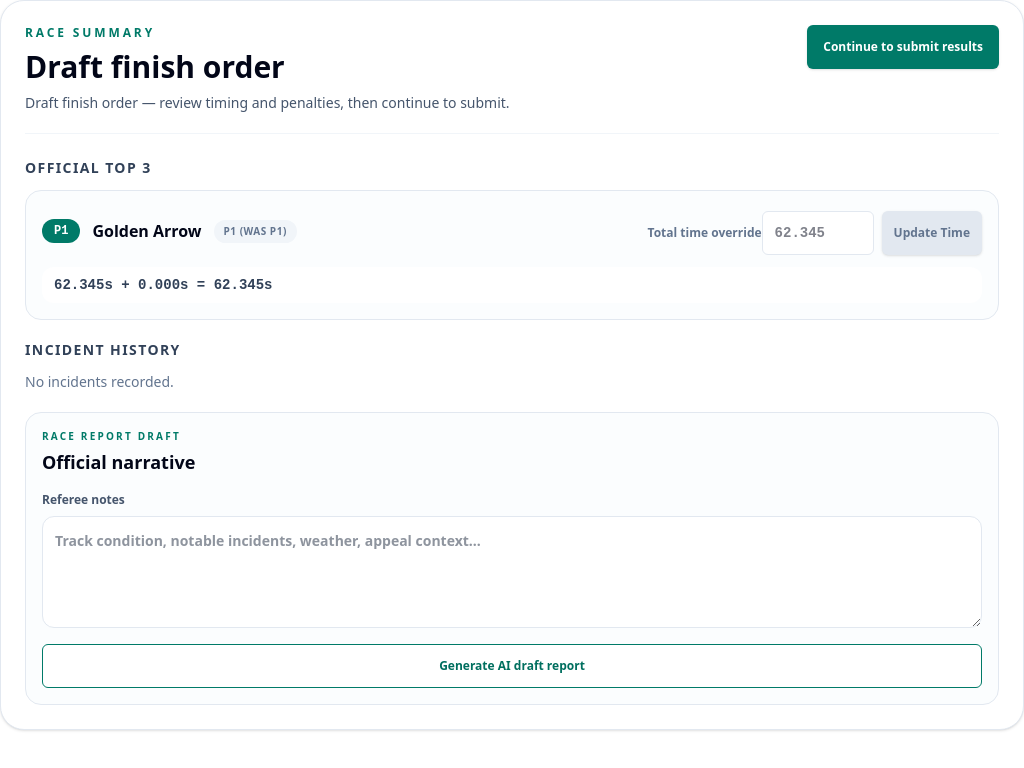
Test: RefereeOfficiatePage › requires Update Time before applying a manual total time override
Type "62.344" into the number field named "Override total time for Golden Arrow" at point(818, 233), box [762,211,874,255]
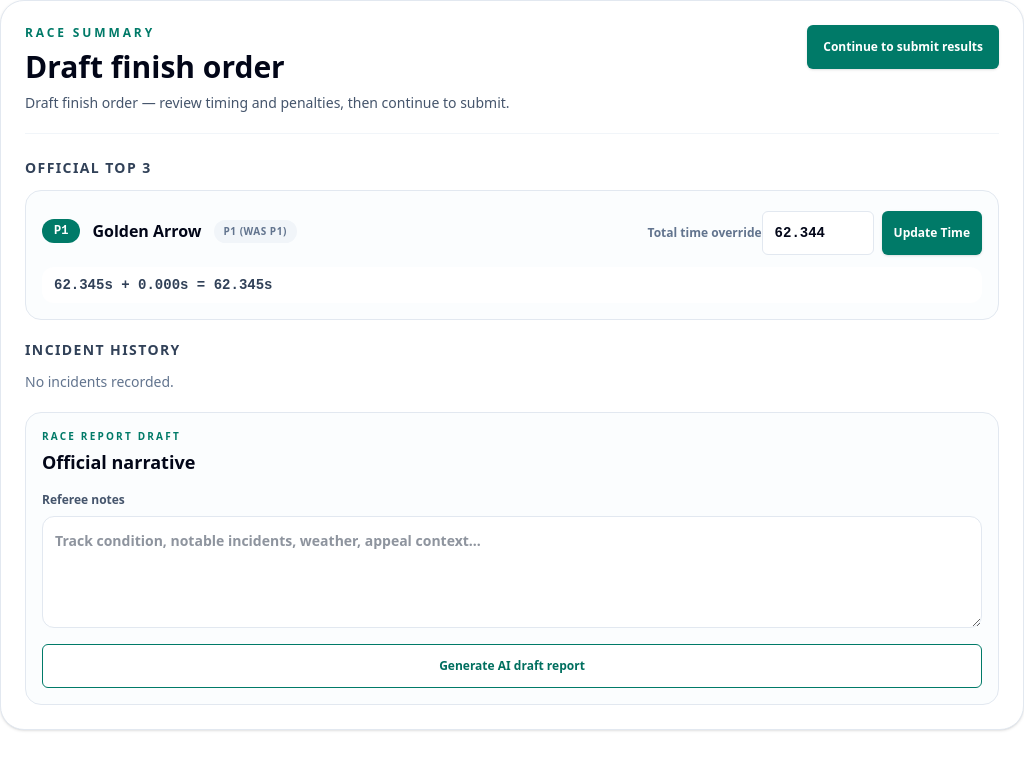
Expected: the text "62.345s + 0.000s = 62.345s" is shown, [42,267,982,303]
Click the button with aria-label "Update time for Golden Arrow" at point(932, 233), box [882,211,982,255]
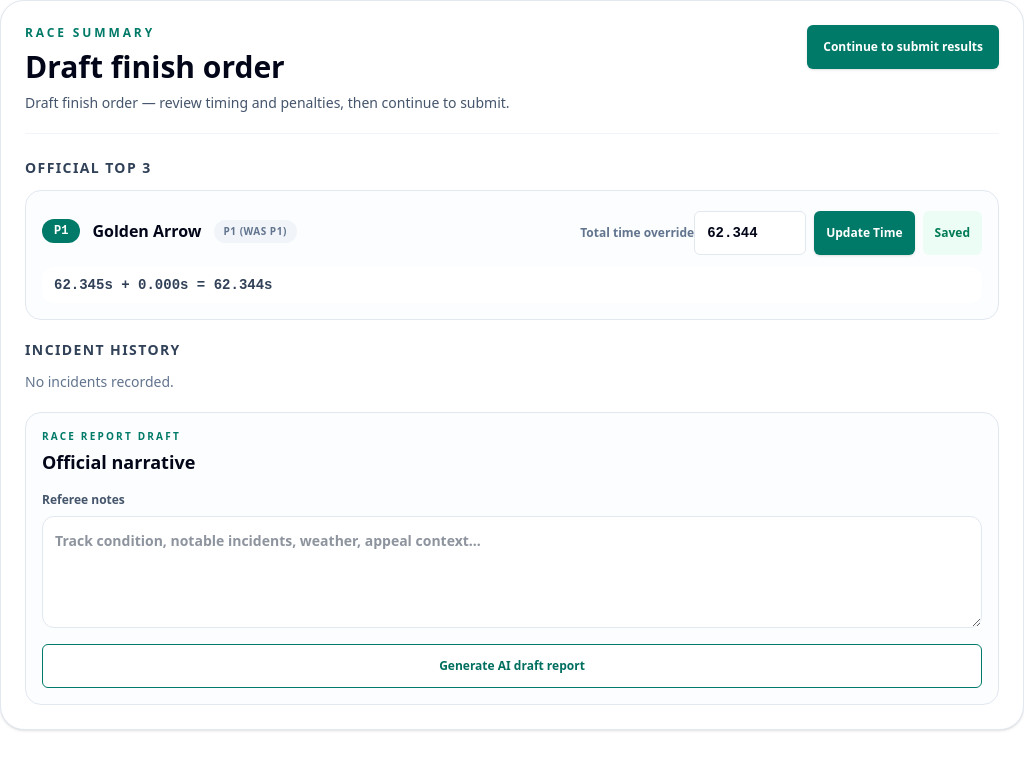
Expected: the text "62.345s + 0.000s = 62.344s" is shown, [42,267,982,303]
Expected: the text "Saved" is shown, [923,211,982,255]
